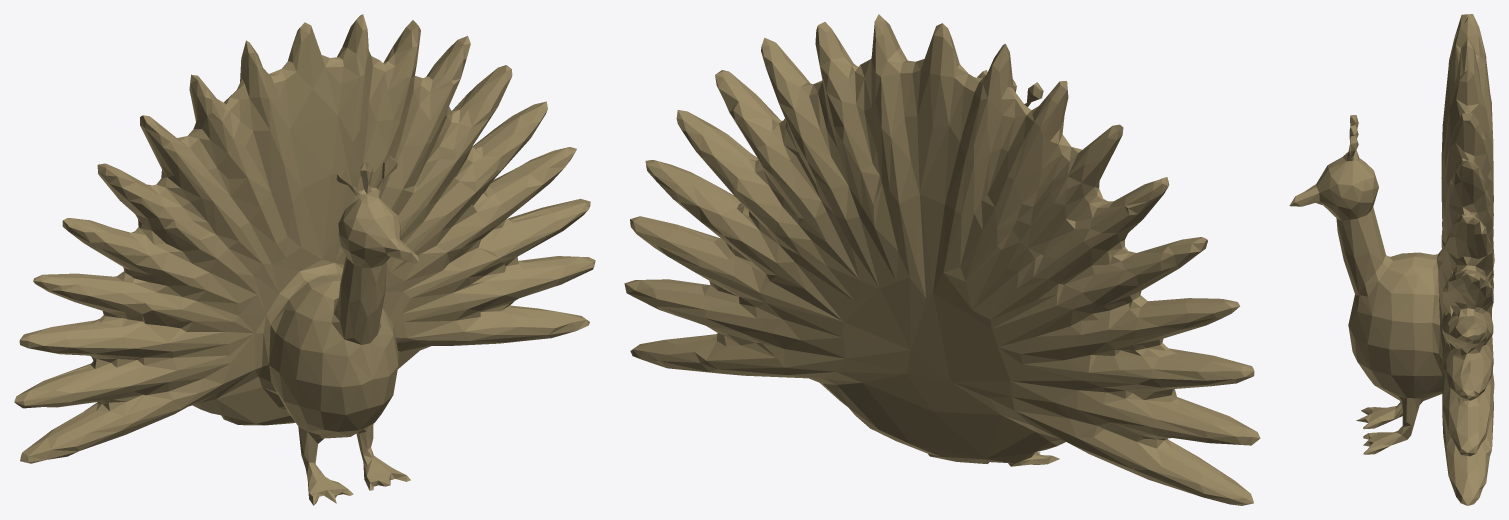
File: NEW_RECOVERY_011_LOD1.fbx
The picture shows the model from 3 angles, left to right: view 1: azimuth 30°, elevation 25°; view 2: azimuth 150°, elevation 25°; view 3: azimuth 270°, elevation 25°; orthographic projection. The views are drawn at different scales.
Visible parts, largest first — view 1: Peacock_solid_original; view 2: Peacock_solid_original; view 3: Peacock_solid_original.
Boxes of the visible parts, x1=… form: Peacock_solid_original: x1=14, y1=14, x2=595, y2=505; Peacock_solid_original: x1=624, y1=14, x2=1260, y2=505; Peacock_solid_original: x1=1289, y1=14, x2=1494, y2=505.
Bounding box in the file's own units: 450 × 150 × 318.
